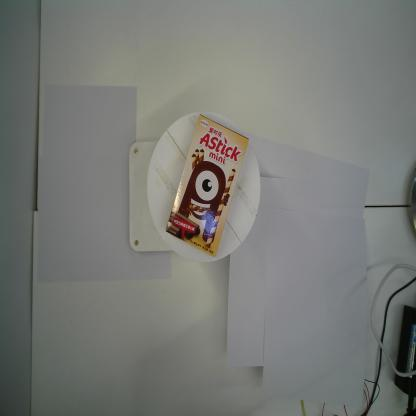Dessert: (164, 113, 250, 258)
